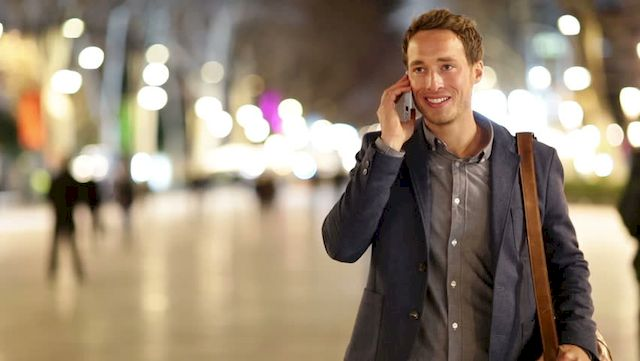phone: (391, 72, 419, 119)
talk: (376, 57, 473, 139)
